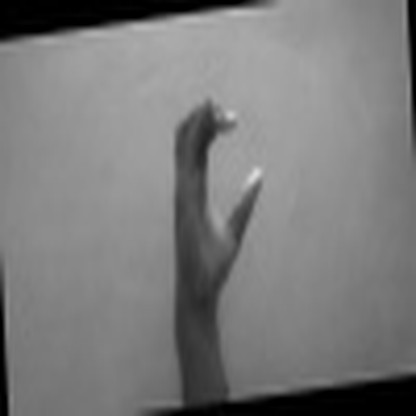c: (166, 91, 268, 289)
